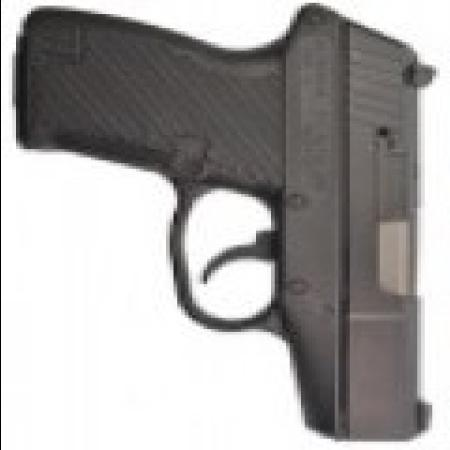Pistol: (19, 8, 435, 422)
